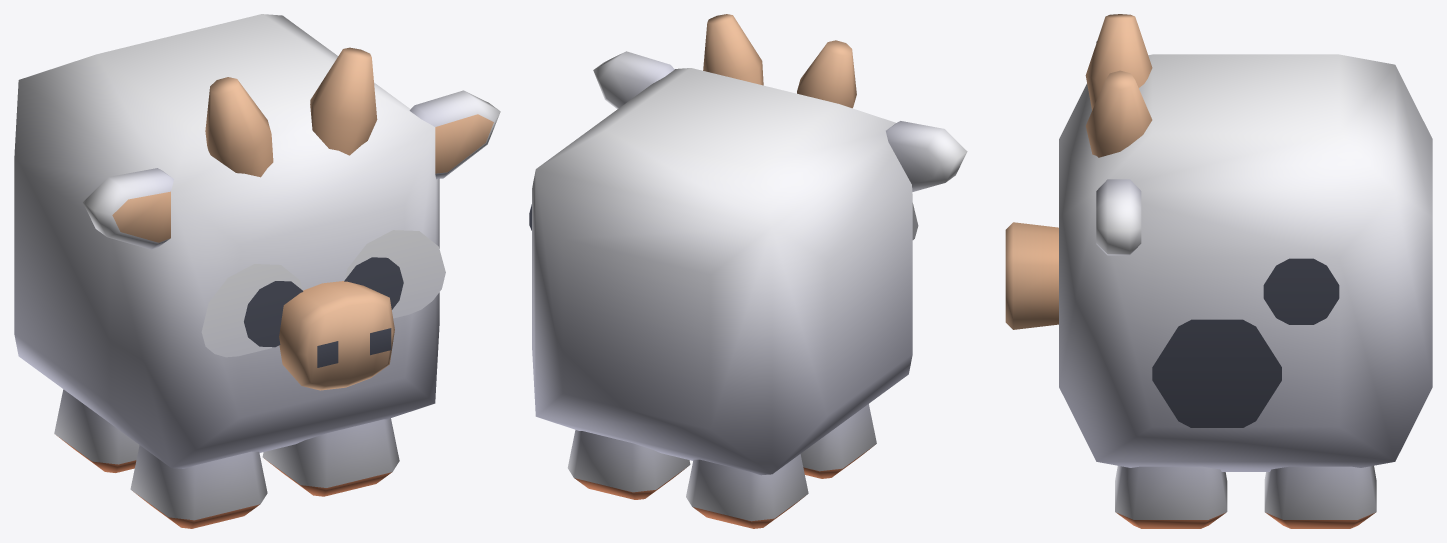
File: animal-cow.obj
3 renders of one model, left to right at view 1: azimuth 30°, elevation 25°; view 2: azimuth 150°, elevation 25°; view 3: azimuth 270°, elevation 25°, orthographic. The views are drawn at different scales.
Parts seen in each view (by area): view 1: body, Group, leg-front-right, leg-front-left, leg-back-right; view 2: body, leg-back-right, leg-back-left, leg-front-right; view 3: body, leg-back-left, leg-front-left, Group.
Part boxes in pixels (bbox=[...]): body: bbox=[14, 14, 500, 468]; Group: bbox=[279, 281, 394, 390]; leg-front-right: bbox=[130, 445, 267, 528]; leg-front-left: bbox=[262, 418, 399, 496]; leg-back-right: bbox=[54, 389, 139, 472]; body: bbox=[529, 14, 967, 475]; leg-back-right: bbox=[686, 454, 808, 528]; leg-back-left: bbox=[567, 430, 690, 499]; leg-front-right: bbox=[800, 404, 876, 478]; body: bbox=[1059, 14, 1432, 471]; leg-back-left: bbox=[1264, 465, 1376, 528]; leg-front-left: bbox=[1115, 466, 1227, 528]; Group: bbox=[1005, 222, 1058, 329].
Bounding box in the file's own units: 1.54 × 1.61 × 1.46.
